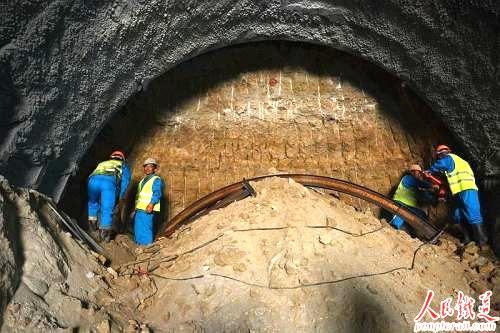helmet: (142, 157, 157, 175), (407, 164, 423, 178), (435, 145, 450, 158), (110, 150, 126, 162)
